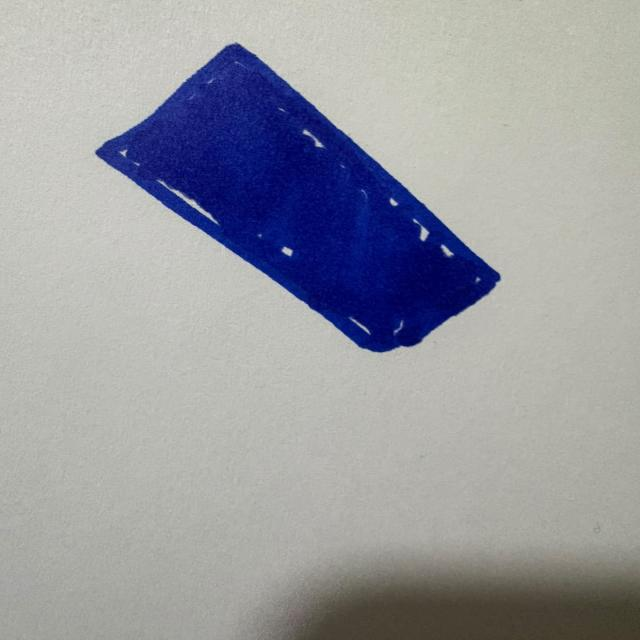Rectangle: (95, 43, 501, 354)
